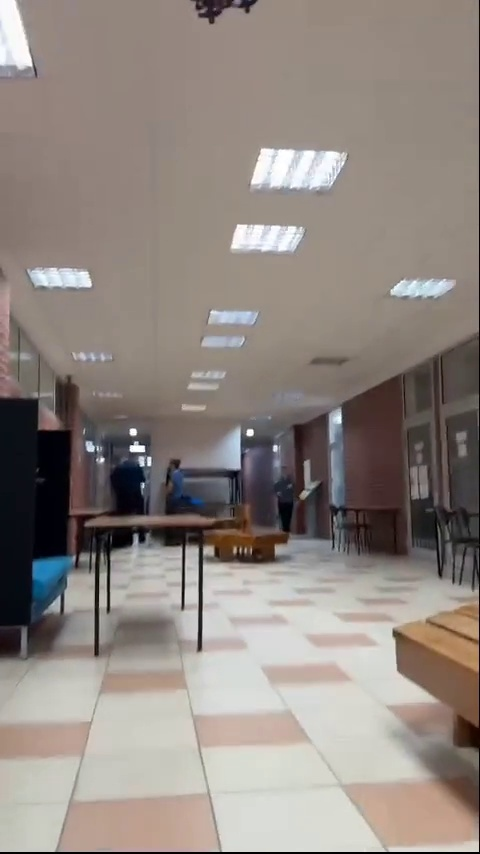drone: (192, 0, 258, 28)
no vest: (110, 446, 152, 511), (164, 449, 200, 511), (274, 461, 300, 539)
